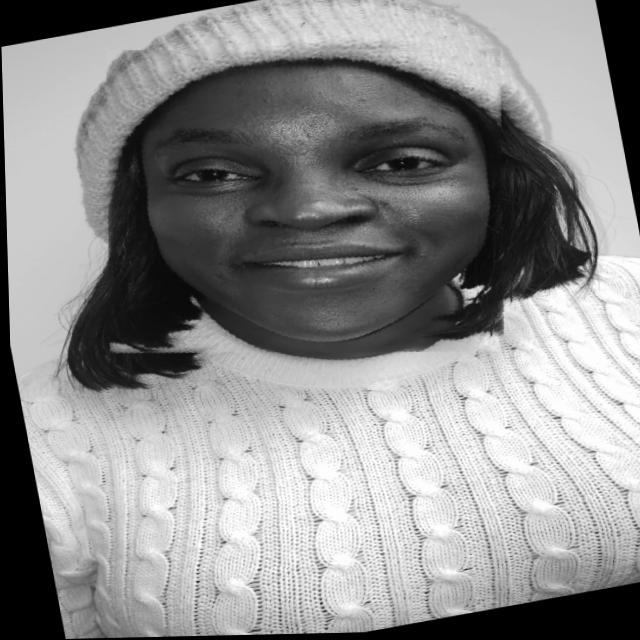happy: (67, 0, 540, 404)
